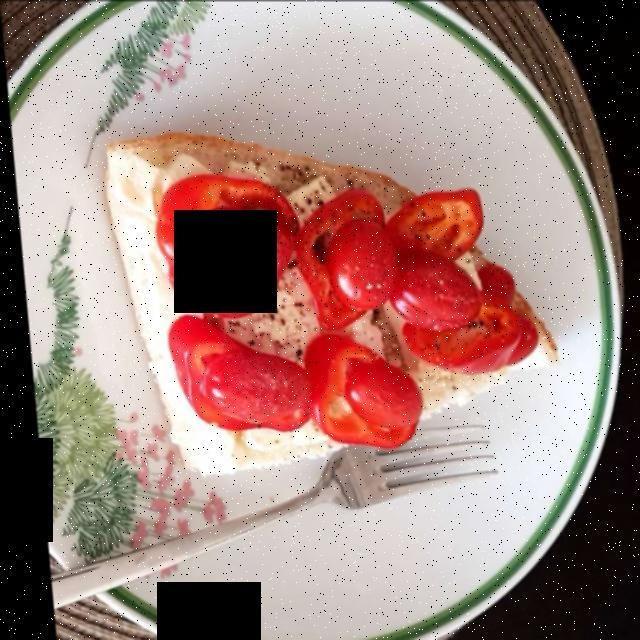bell-pepper: (160, 174, 533, 452)
bread: (98, 129, 552, 473)
tomato: (185, 212, 477, 431)
